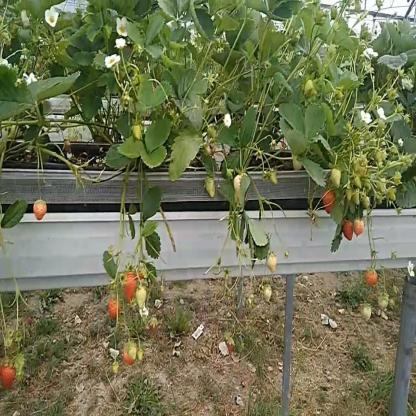ripe: (0, 362, 17, 392), (124, 272, 138, 302), (123, 340, 136, 366), (322, 190, 334, 214), (365, 265, 378, 287), (343, 219, 353, 243), (109, 301, 119, 320)
unripe: (32, 202, 47, 222), (330, 168, 341, 189), (266, 254, 277, 274), (354, 218, 365, 238), (204, 178, 214, 200), (137, 290, 147, 309), (262, 285, 272, 304), (378, 294, 388, 312), (362, 304, 372, 322), (131, 125, 142, 140), (268, 170, 278, 186), (112, 363, 119, 381), (136, 350, 145, 363)
